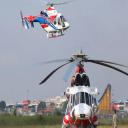helicopter: (24, 48, 128, 128), (20, 2, 74, 43)
